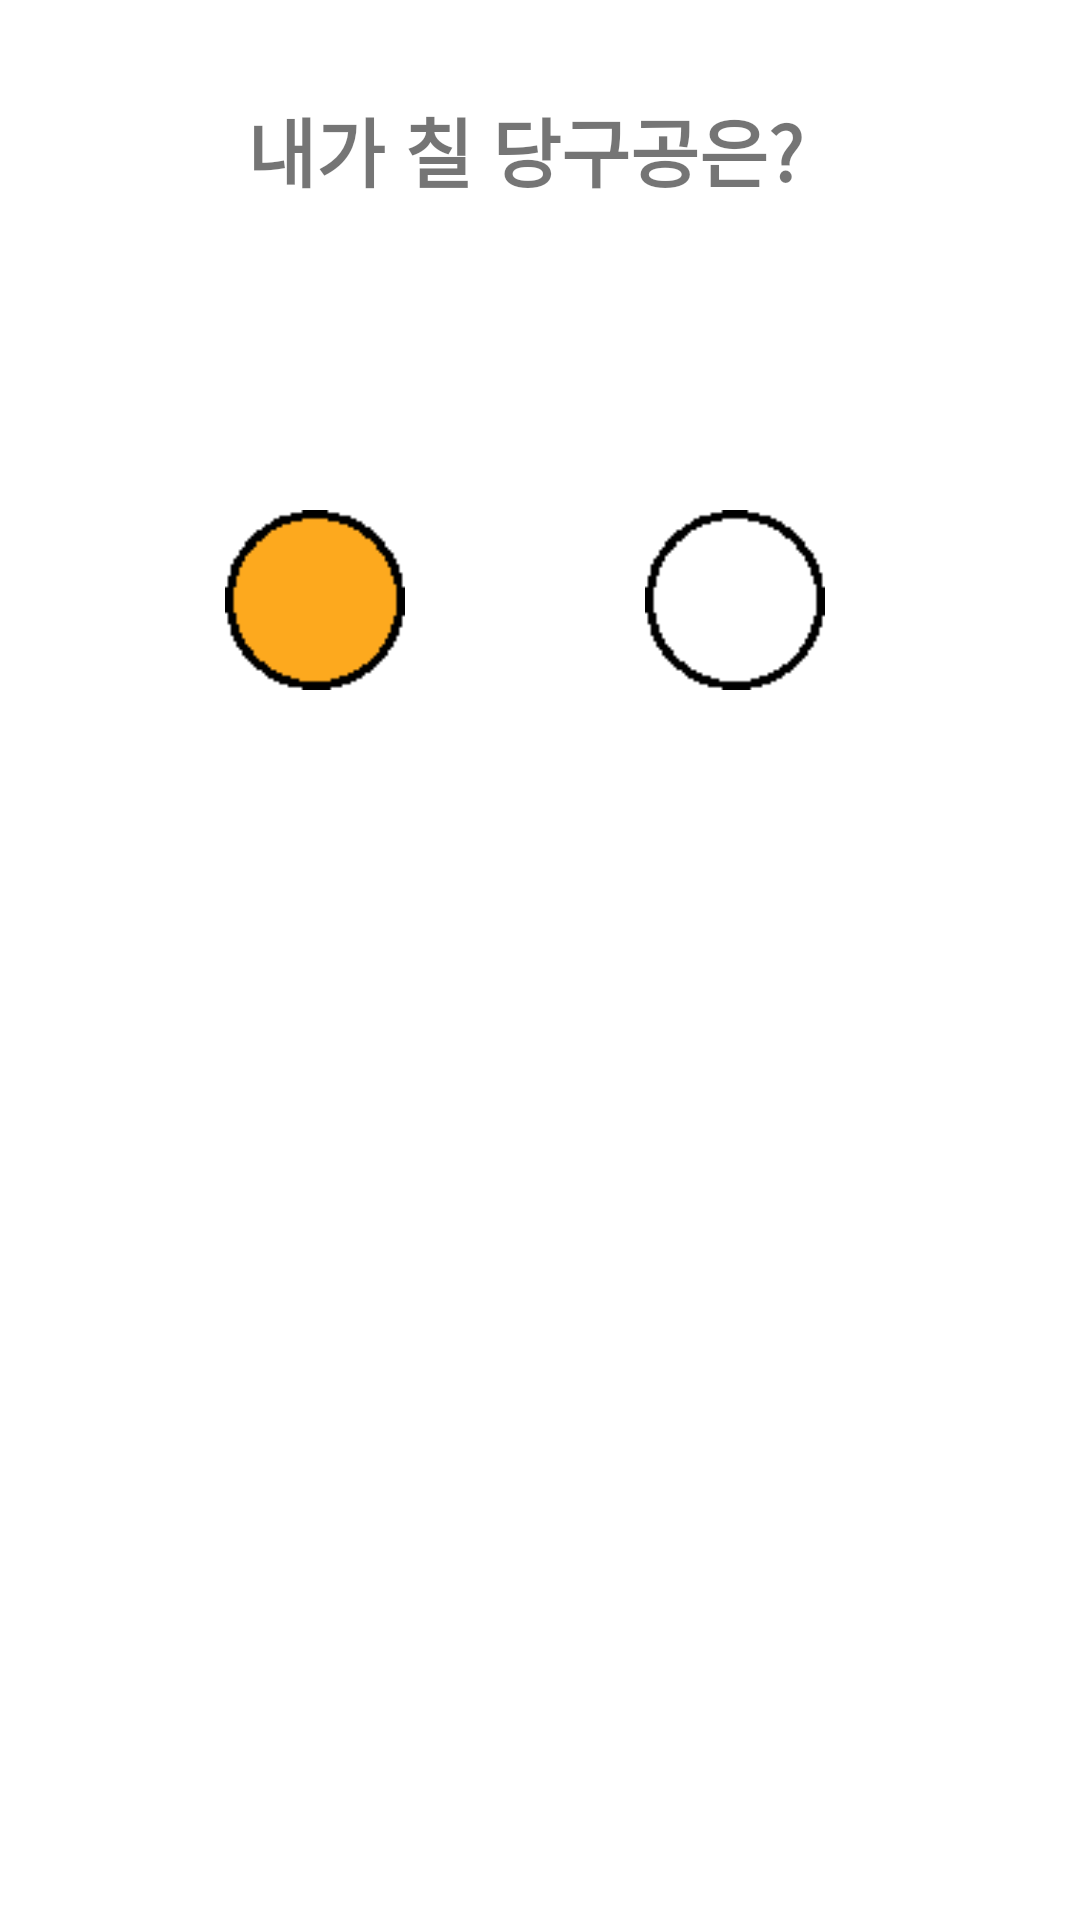

Icons on this 1080 x 1920 Android screen, each with its box as (x1, y1, x2, y2):
wball: (645, 510, 825, 690)
yball: (225, 510, 405, 690)
